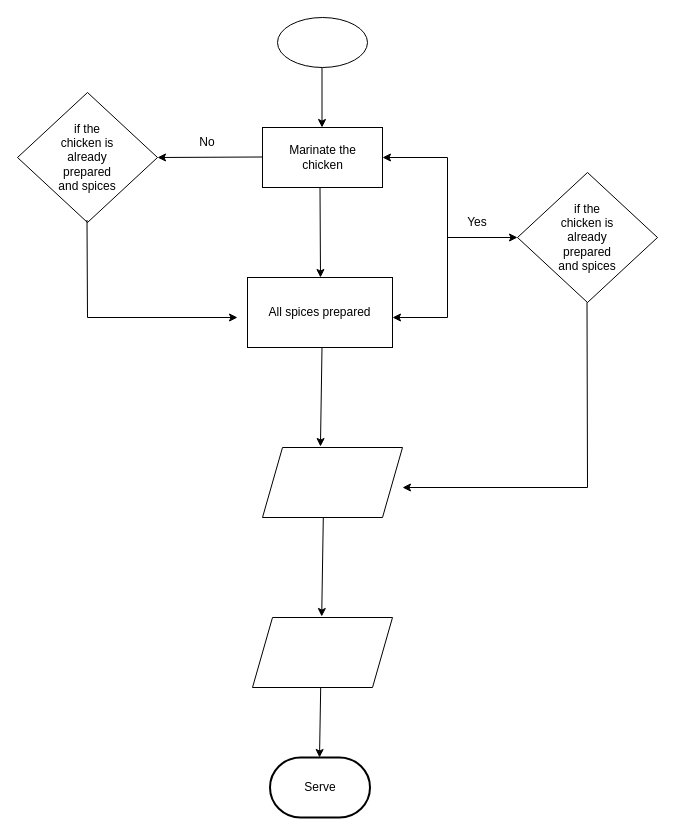
Image size: 675x836. Some labels were removed from this diagram. The shapes that lost their labels are listed below. From the top down, each one's centre as x and y in pixels, then its label:
At (322,42): "Start".
At (332,482): "Execute Cooking".
At (322,652): "Finish Cooking".
